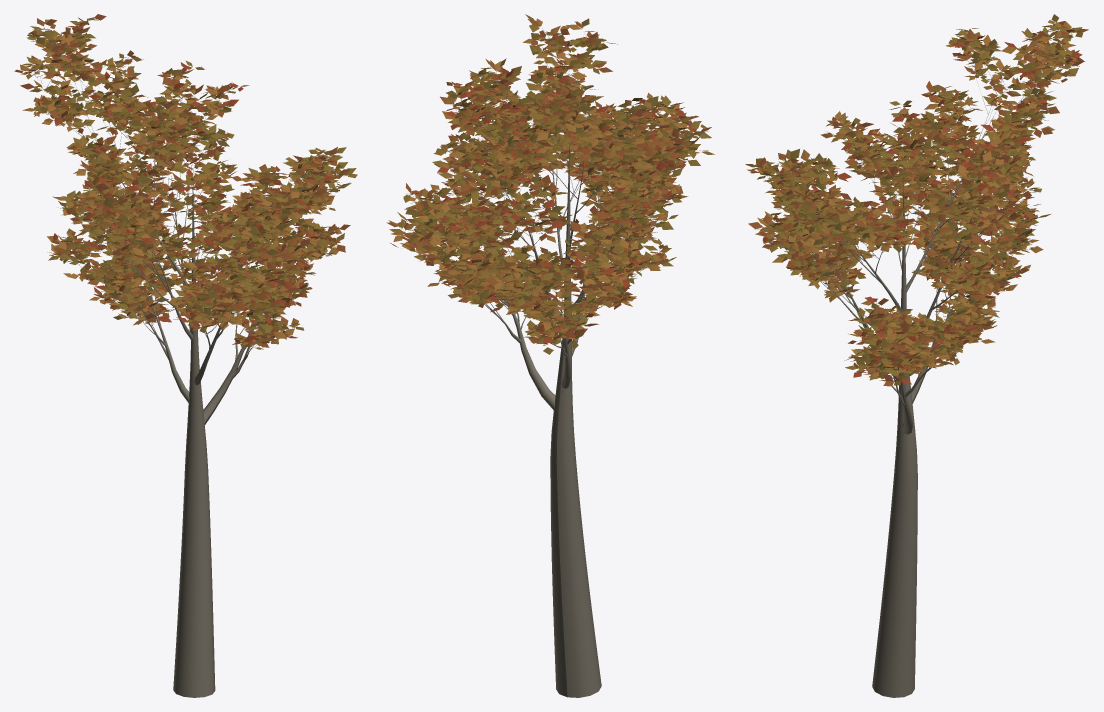
The model's file is autumntree_03.glb.
3 renders of one model, left to right at view 1: azimuth 30°, elevation 25°; view 2: azimuth 150°, elevation 25°; view 3: azimuth 270°, elevation 25°, orthographic. The views are drawn at different scales.
Parts seen in each view (by area): view 1: AutumnTree_03_leaf_clusters, AutumnTree_03_trunk_branches; view 2: AutumnTree_03_leaf_clusters, AutumnTree_03_trunk_branches; view 3: AutumnTree_03_leaf_clusters, AutumnTree_03_trunk_branches.
Part boxes in pixels (box(x1,y1,x2,y2)): AutumnTree_03_leaf_clusters: box(14, 14, 357, 349); AutumnTree_03_trunk_branches: box(33, 19, 339, 697); AutumnTree_03_leaf_clusters: box(386, 14, 714, 354); AutumnTree_03_trunk_branches: box(401, 28, 708, 697); AutumnTree_03_leaf_clusters: box(745, 14, 1088, 386); AutumnTree_03_trunk_branches: box(764, 29, 1075, 697).
Bounding box in the file's own units: 3.59 × 7.42 × 3.66.
